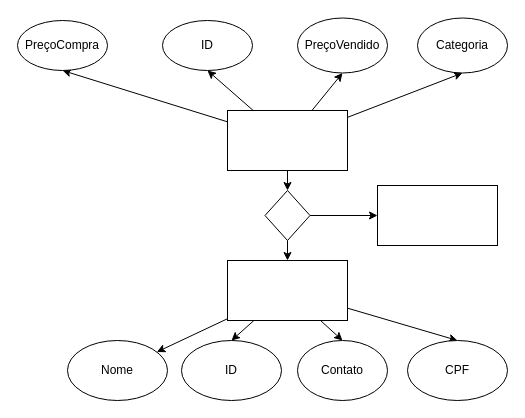
The diagram is 525 pixels wide and 418 high, and some of its shapes have lost their labels. Each missing label, with the centre of its shape:
Cliente: [287,290]
Produtos: [287,140]
